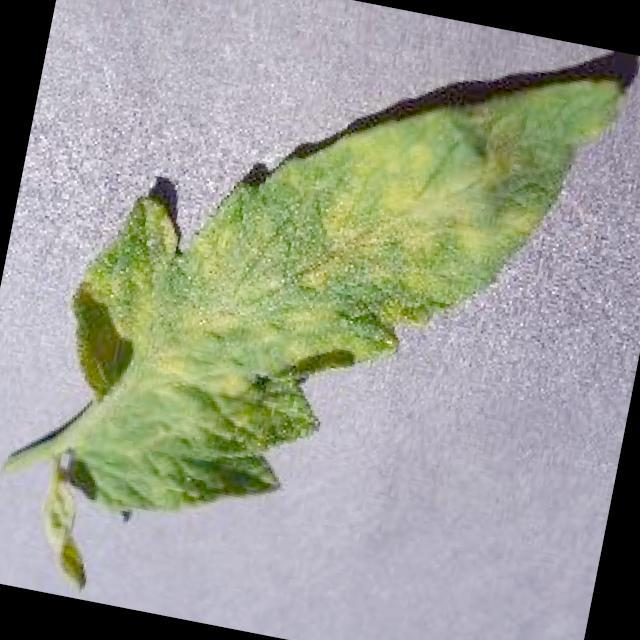Tomato mold leaf: (38, 0, 634, 593)
